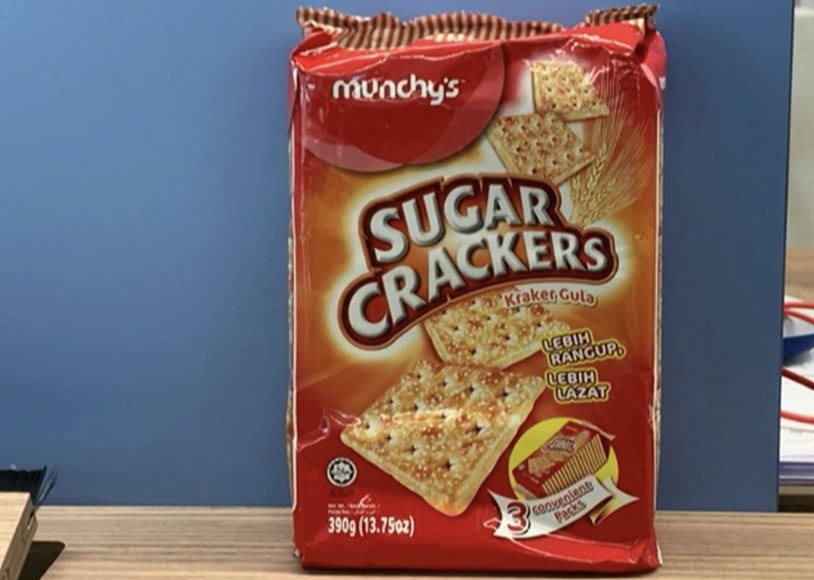crackers_450g: (319, 75, 640, 542)
